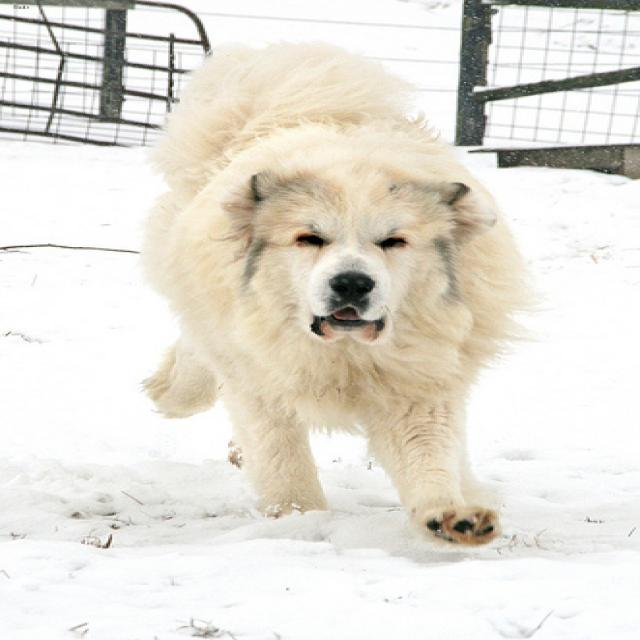dog-great_pyrenees: (128, 29, 555, 552)
